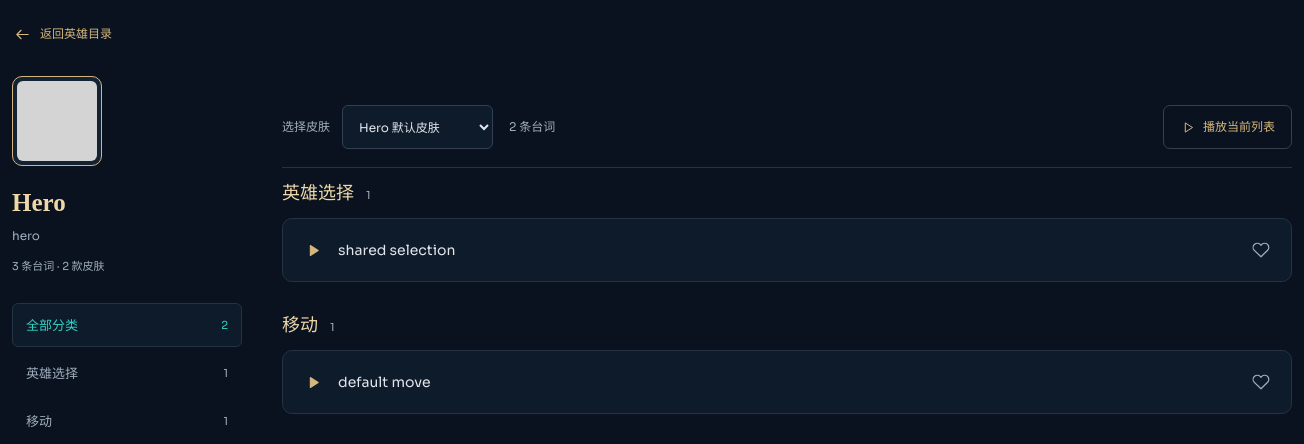
it: hero browsing and playback filters › defaults to the base skin and retains shared selection in every skin
Expected: the text "shared selection" is shown, [338,237,455,263]
Expected: the text "special move" is not shown
Select "Special" in the dropdown. click: (418, 127)
box: [342,105,493,149]
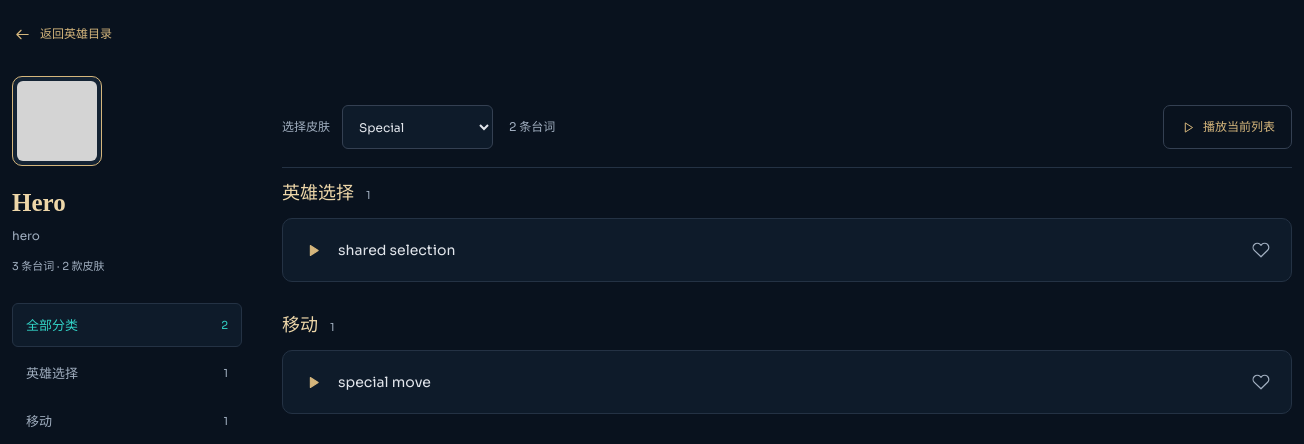
Expected: the text "shared selection" is shown, [338,237,455,263]
Result: the text "special move" is shown at [338,369,431,395]
Result: the button "default move" is gone
